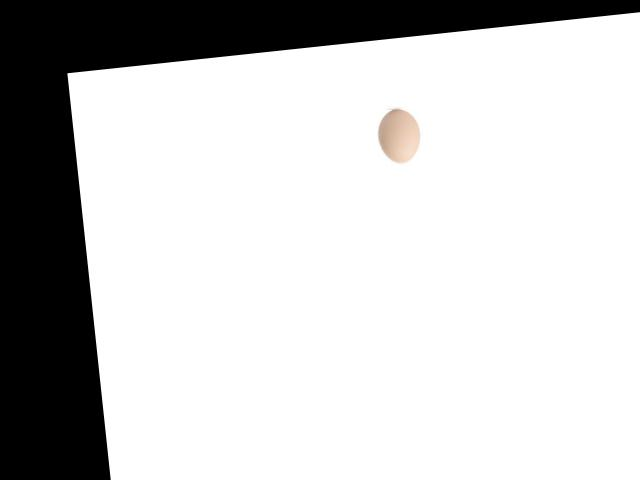egg: (375, 106, 421, 164)
